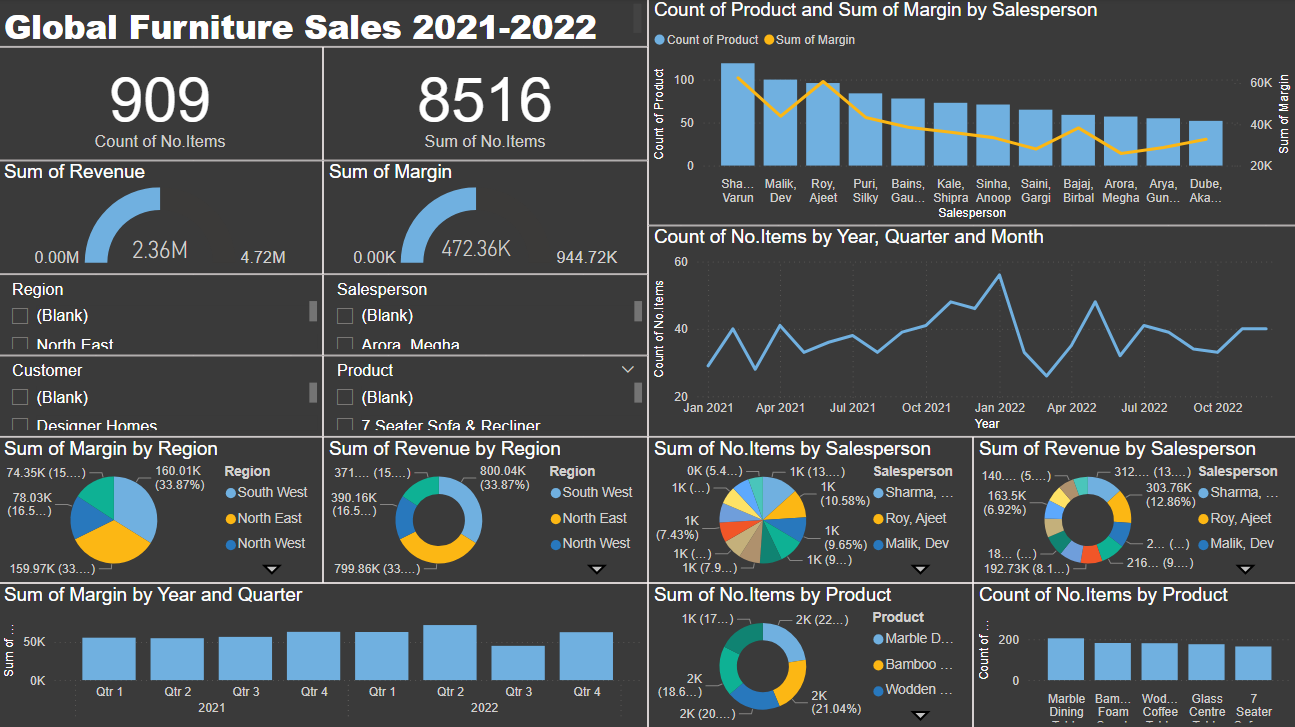

This screenshot's page, from the dashboard's own definition file:
{"tool":"powerbi","page":{"name":"Page 1","canvas":[1280,720],"ordinal":0},"visuals":[{"type":"textbox","box":[0,0,640,48],"z":0},{"type":"columnChart","fields":{"Y":["Raw_Data.Margin"],"Category":["Raw_Data.Date.Variation.Date Hierarchy.Year","Raw_Data.Date.Variation.Date Hierarchy.Quarter"]},"box":[0,576,640,144],"z":1000},{"type":"donutChart","fields":{"Category":["Raw_Data.Product"],"Y":["Raw_Data.No.Items"]},"box":[640,576,320,144],"z":2000},{"type":"columnChart","fields":{"Y":["Raw_Data.No.Items"],"Category":["Raw_Data.Product"]},"box":[960,576,320,144],"z":3000},{"type":"pieChart","fields":{"Y":["Raw_Data.No.Items"],"Category":["Raw_Data.Salesperson"]},"box":[640,432,320,144],"z":4000},{"type":"lineStackedColumnComboChart","fields":{"Y":["Raw_Data.Product"],"Category":["Raw_Data.Salesperson"],"Y2":["Raw_Data.Margin"]},"box":[640,0,640,224],"z":5000},{"type":"donutChart","fields":{"Category":["Raw_Data.Salesperson"],"Y":["Raw_Data.Revenue"]},"box":[960,432,320,144],"z":6000},{"type":"pieChart","fields":{"Y":["Raw_Data.Margin"],"Category":["Raw_Data.Region"]},"box":[0,432,320,144],"z":7000},{"type":"donutChart","fields":{"Category":["Raw_Data.Region"],"Y":["Raw_Data.Revenue"]},"box":[320,432,320,144],"z":8000},{"type":"lineChart","fields":{"Y":["Raw_Data.No.Items"],"Category":["Raw_Data.Date.Variation.Date Hierarchy.Year","Raw_Data.Date.Variation.Date Hierarchy.Quarter","Raw_Data.Date.Variation.Date Hierarchy.Month"]},"box":[640,224,640,208],"z":9000},{"type":"slicer","fields":{"Values":["Raw_Data.Customer"]},"box":[0,352,320,80],"z":10000},{"type":"slicer","fields":{"Values":["Raw_Data.Product"]},"box":[320,352,320,80],"z":11000},{"type":"slicer","fields":{"Values":["Raw_Data.Salesperson"]},"box":[320,272,320,80],"z":12000},{"type":"slicer","fields":{"Values":["Raw_Data.Region"]},"box":[0,272,320,80],"z":13000},{"type":"card","fields":{"Values":["Raw_Data.No.Items"]},"box":[0,48,320,112],"z":14000},{"type":"card","fields":{"Values":["Raw_Data.No.Items"]},"box":[320,48,320,112],"z":15000},{"type":"gauge","fields":{"Y":["Raw_Data.Revenue"]},"box":[0,160,320,112],"z":16000},{"type":"gauge","fields":{"Y":["Raw_Data.Margin"]},"box":[320,160,320,112],"z":17000}]}

Visuals, with their boxes in screenshot pixels (x1, y1, x2, y2), scaled from the page's 1280x720 canvas onto the 1295x727 screenshot:
textbox: region(0, 0, 648, 48)
columnChart - Raw_Data.Margin x Raw_Data.Date.Variation.Date Hierarchy.Year: region(0, 582, 648, 726)
donutChart - Raw_Data.Product x Raw_Data.No.Items: region(648, 582, 971, 726)
columnChart - Raw_Data.No.Items x Raw_Data.Product: region(971, 582, 1294, 726)
pieChart - Raw_Data.No.Items x Raw_Data.Salesperson: region(648, 436, 971, 582)
lineStackedColumnComboChart - Raw_Data.Product x Raw_Data.Salesperson: region(648, 0, 1294, 226)
donutChart - Raw_Data.Salesperson x Raw_Data.Revenue: region(971, 436, 1294, 582)
pieChart - Raw_Data.Margin x Raw_Data.Region: region(0, 436, 324, 582)
donutChart - Raw_Data.Region x Raw_Data.Revenue: region(324, 436, 648, 582)
lineChart - Raw_Data.No.Items x Raw_Data.Date.Variation.Date Hierarchy.Year: region(648, 226, 1294, 436)
slicer - Raw_Data.Customer: region(0, 355, 324, 436)
slicer - Raw_Data.Product: region(324, 355, 648, 436)
slicer - Raw_Data.Salesperson: region(324, 275, 648, 355)
slicer - Raw_Data.Region: region(0, 275, 324, 355)
card - Raw_Data.No.Items: region(0, 48, 324, 162)
card - Raw_Data.No.Items: region(324, 48, 648, 162)
gauge - Raw_Data.Revenue: region(0, 162, 324, 275)
gauge - Raw_Data.Margin: region(324, 162, 648, 275)
